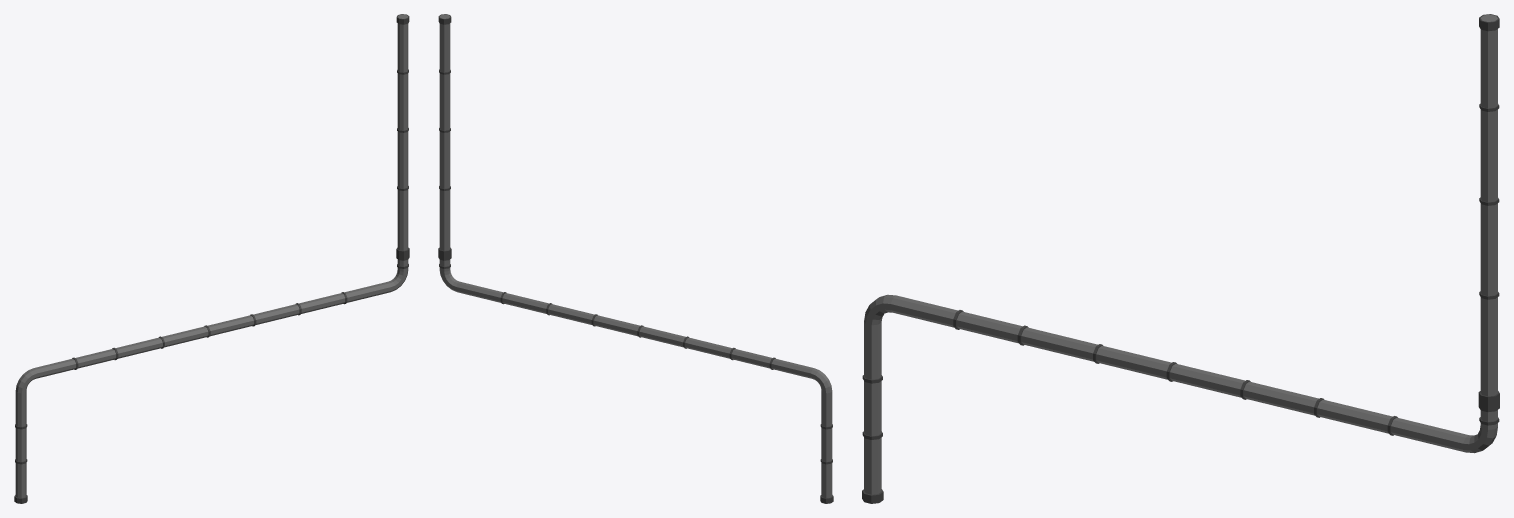
File: WallDecor_04.fbx
The picture shows the model from 3 angles, left to right: view 1: azimuth 30°, elevation 25°; view 2: azimuth 150°, elevation 25°; view 3: azimuth 330°, elevation 25°; orthographic projection. The views are drawn at different scales.
Visible parts, largest first — view 1: WallDecor_04; view 2: WallDecor_04; view 3: WallDecor_04.
Boxes of the visible parts, left/top/right/bottom form: WallDecor_04: left=14, top=14, right=409, bottom=503; WallDecor_04: left=438, top=14, right=833, bottom=503; WallDecor_04: left=862, top=14, right=1499, bottom=503.
Size of the model in its own units: 945 by 900 by 25.83.
